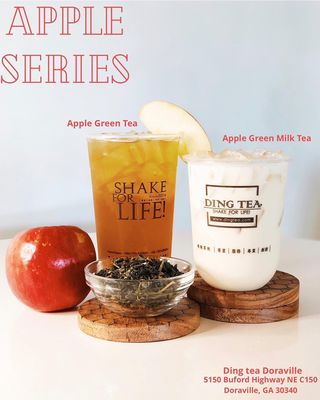pizza: (186, 152, 291, 293), (87, 130, 180, 263)
steak: (4, 225, 97, 312)
sushi: (83, 254, 196, 317)
